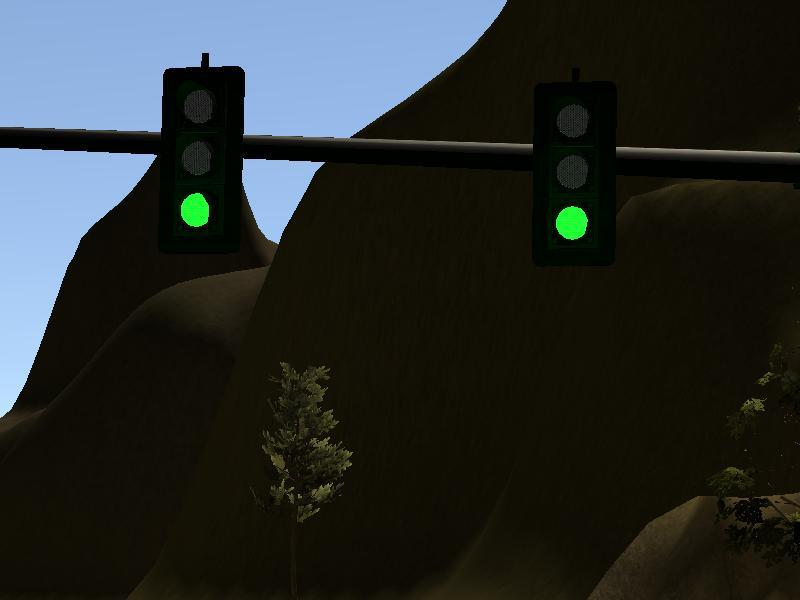Green: (531, 81, 617, 267), (160, 66, 243, 254)
